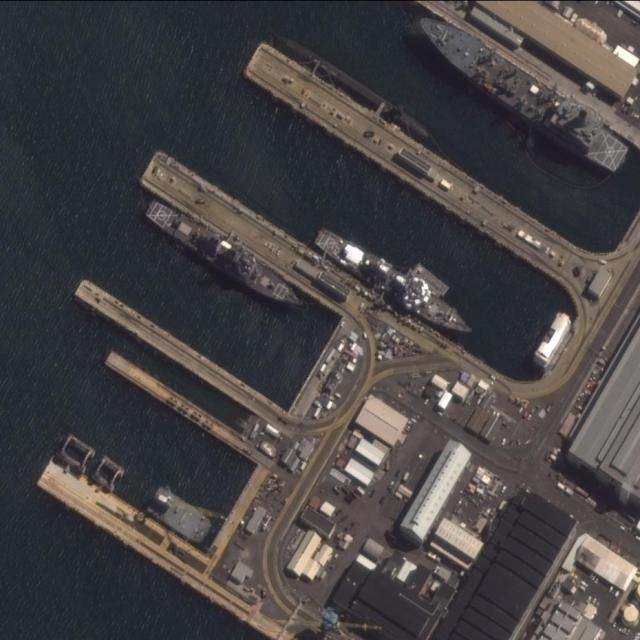Commander: (405, 4, 639, 178)
Destroyer: (311, 224, 478, 339), (145, 196, 306, 314)
Dock: (239, 41, 589, 286), (138, 146, 356, 313), (74, 277, 279, 427), (34, 456, 211, 591), (105, 348, 262, 467)
Submarine: (274, 30, 432, 140)
